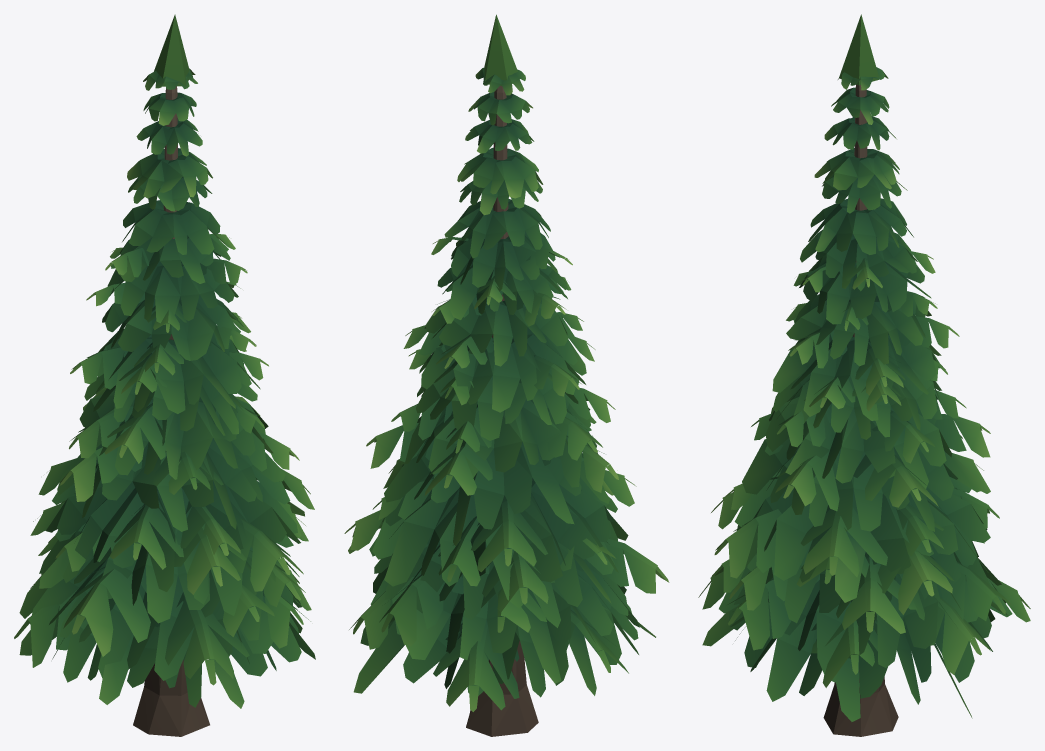
File: spruce_L_slim_std_s32.glb
3 renders of one model, left to right at view 1: azimuth 30°, elevation 25°; view 2: azimuth 150°, elevation 25°; view 3: azimuth 270°, elevation 25°, orthographic.
Parts seen in each view (by area): view 1: Tree; view 2: Tree; view 3: Tree.
Boxes of the visible parts, x1,y1,x2,y2 form: Tree: (14,14,315,736); Tree: (344,14,669,736); Tree: (698,14,1030,736).
Size of what is drawn, in the model's own units: 3.2 by 7.89 by 3.35.
